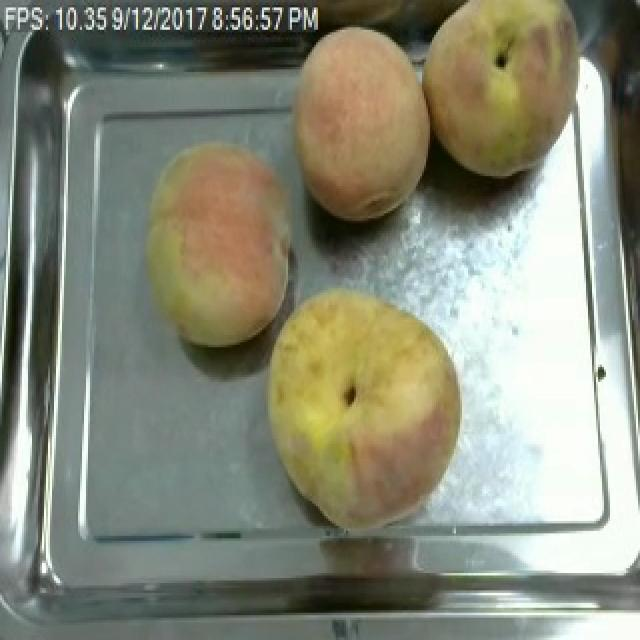Fruit: (254, 276, 476, 538), (136, 131, 300, 355), (416, 0, 606, 189), (280, 15, 440, 231)
